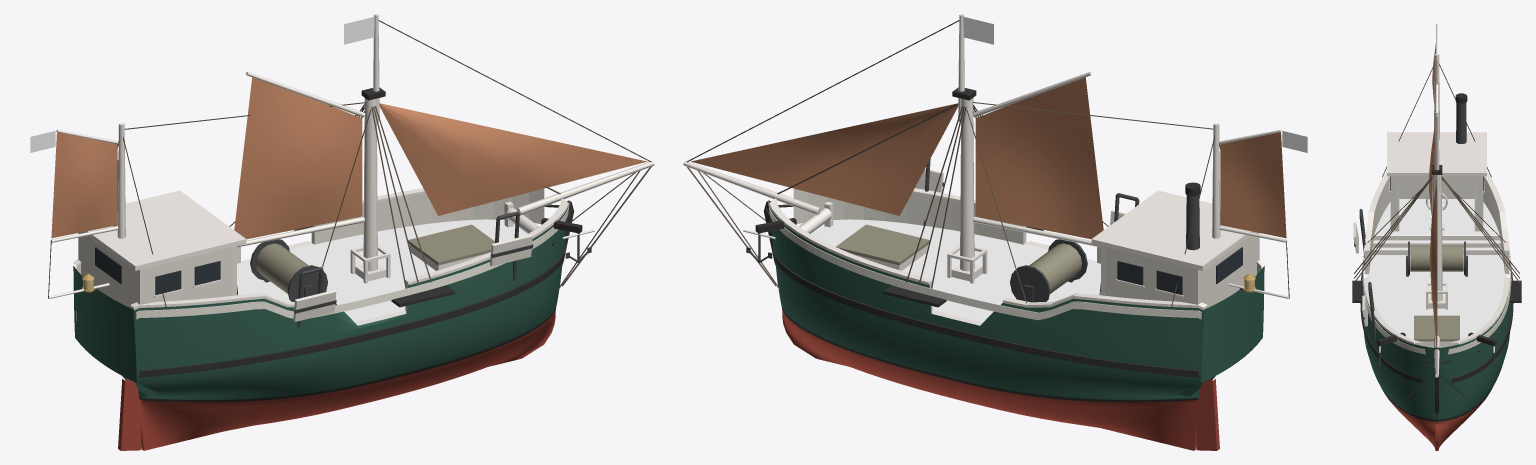
The model's file is trawler_v2_lod1.glb.
The picture shows the model from 3 angles, left to right: view 1: azimuth 30°, elevation 25°; view 2: azimuth 150°, elevation 25°; view 3: azimuth 270°, elevation 25°; orthographic projection. The views are drawn at different scales.
Parts seen in each view (by area): view 1: SM_Trawler_LOD1; view 2: SM_Trawler_LOD1; view 3: SM_Trawler_LOD1.
Boxes of the visible parts, <box> form: SM_Trawler_LOD1: <box>30,14,654,450</box>; SM_Trawler_LOD1: <box>683,14,1307,450</box>; SM_Trawler_LOD1: <box>1352,23,1521,450</box>.
Bounding box in the file's own units: 22.74 × 12.85 × 6.95.
